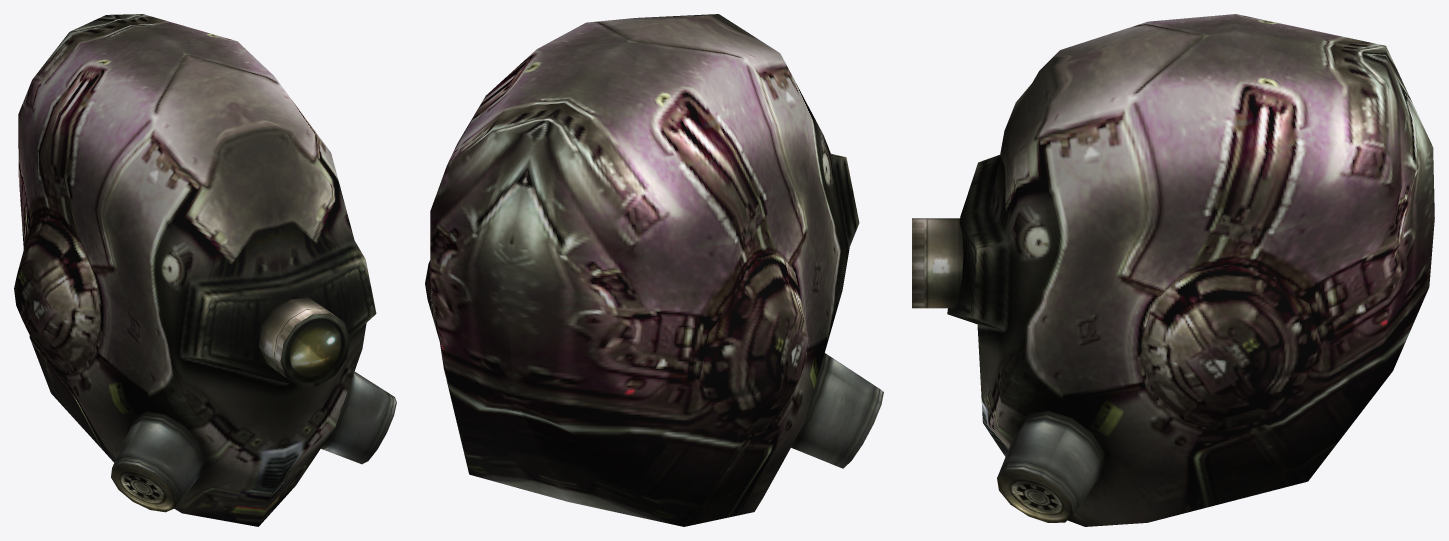
File: hat_shinobi.FBX
The picture shows the model from 3 angles, left to right: view 1: azimuth 30°, elevation 25°; view 2: azimuth 150°, elevation 25°; view 3: azimuth 270°, elevation 25°; orthographic projection. The views are drawn at different scales.
Parts seen in each view (by area): view 1: hat_shinobi; view 2: hat_shinobi; view 3: hat_shinobi.
Boxes of the visible parts, left/top/right/bottom form: hat_shinobi: left=14, top=14, right=396, bottom=526; hat_shinobi: left=425, top=14, right=883, bottom=526; hat_shinobi: left=912, top=14, right=1434, bottom=526.
Bounding box in the file's own units: 23.72 × 32.86 × 32.6.
1 material, 1 textured.
